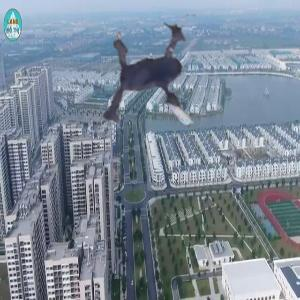drone: (69, 5, 256, 192)
